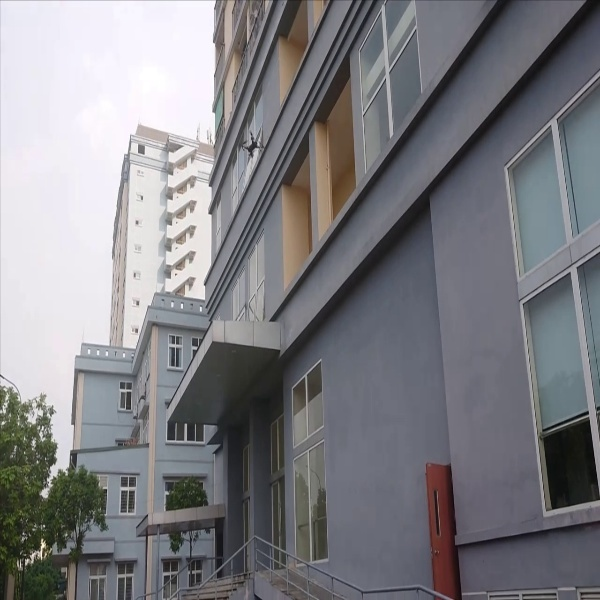drone: (237, 127, 265, 159)
